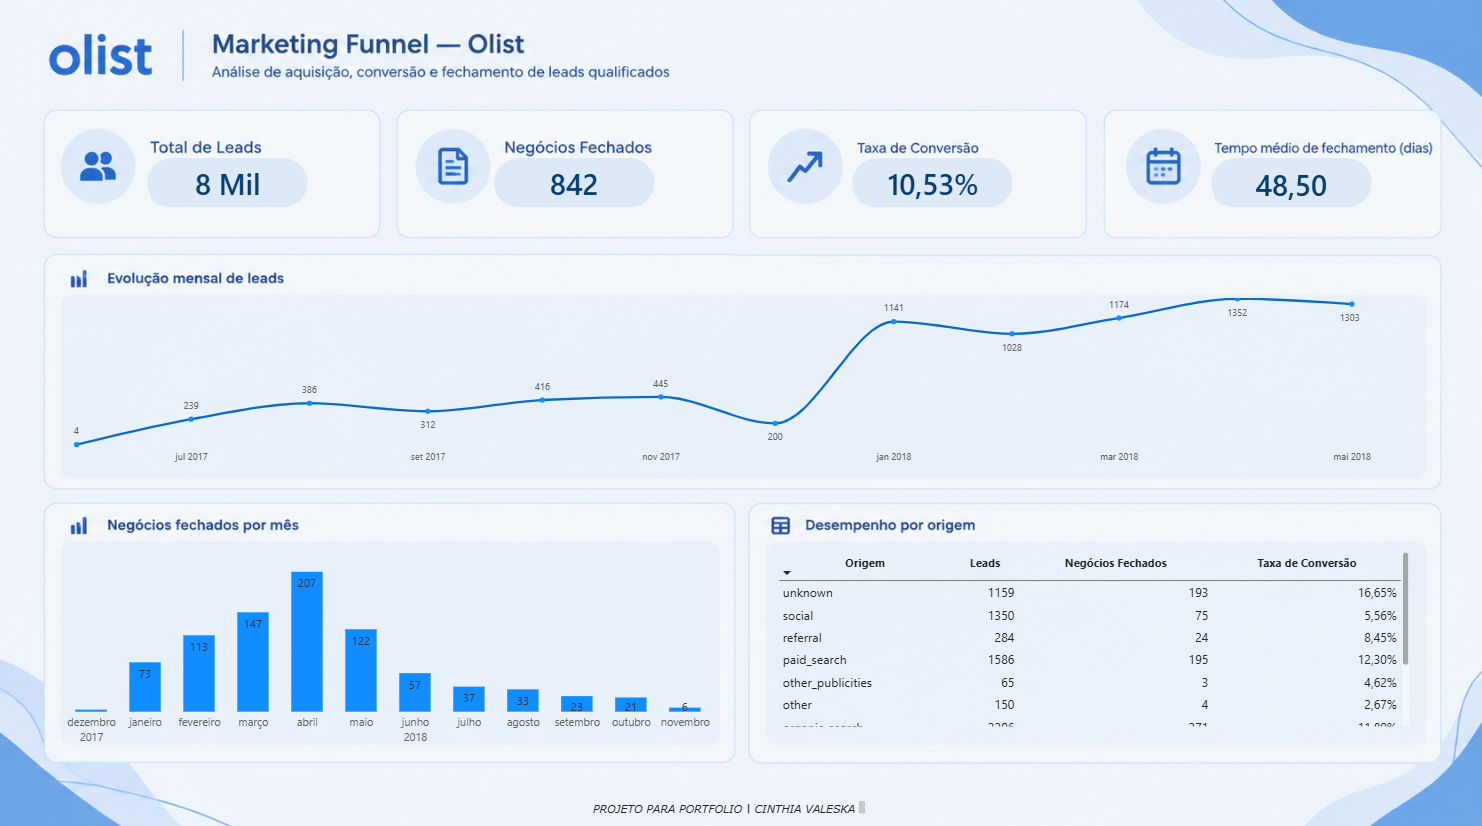

The dashboard page shown, as its layout file describes it:
{"tool":"powerbi","page":{"name":"Página 1","canvas":[1920,1080],"ordinal":0},"visuals":[{"type":"lineChart","title":"Leads por Ano e Mês","fields":{"Category":["public qualified_leads.first_contact_date.Variation.Hierarquia de datas.Ano","public qualified_leads.first_contact_date.Variation.Hierarquia de datas.Mês"],"Y":["public qualified_leads.Total de Leads"]},"box":[64,368,1728,256],"z":3},{"type":"columnChart","title":"Negócios Fechados por Ano e Mês","fields":{"Category":["public closed_deals.won_date.Variation.Hierarquia de datas.Ano","public closed_deals.won_date.Variation.Hierarquia de datas.Mês"],"Y":["public closed_deals.Total de Negócios Fechados"]},"box":[48,720,912,272],"z":4},{"type":"shape","box":[640,208,208,64],"z":14},{"type":"shape","box":[192,208,208,64],"z":15},{"type":"shape","box":[1104,208,208,64],"z":16},{"type":"shape","box":[1568,208,208,64],"z":17},{"type":"cardVisual","fields":{"Data":["public qualified_leads.Taxa de Conversão"]},"box":[1072,160,272,160],"z":18},{"type":"cardVisual","fields":{"Data":["public qualified_leads.Tempo Médio de Fechamento (Dias)"]},"box":[1536,160,272,160],"z":19},{"type":"cardVisual","fields":{"Data":["public closed_deals.Total de Negócios Fechados"]},"box":[608,160,272,160],"z":20},{"type":"cardVisual","fields":{"Data":["public qualified_leads.Total de Leads"]},"box":[176,160,240,160],"z":21},{"type":"tableEx","fields":{"Values":["public qualified_leads.origin","public qualified_leads.Total de Leads","public closed_deals.Total de Negócios Fechados","public qualified_leads.Taxa de Conversão"]},"box":[992,704,848,256],"z":23},{"type":"textbox","box":[768,1040,352,16],"z":24}]}

Visuals, with their boxes in screenshot pixels (x1, y1, x2, y2), scaled from the page's 1920x1080 canvas onto the 1482x826 screenshot:
"Leads por Ano e Mês" lineChart: rect(49, 281, 1383, 477)
"Negócios Fechados por Ano e Mês" columnChart: rect(37, 551, 741, 759)
shape: rect(494, 159, 655, 208)
shape: rect(148, 159, 309, 208)
shape: rect(852, 159, 1013, 208)
shape: rect(1210, 159, 1371, 208)
cardVisual - public qualified_leads.Taxa de Conversão: rect(827, 122, 1037, 245)
cardVisual - public qualified_leads.Tempo Médio de Fechamento (Dias): rect(1186, 122, 1396, 245)
cardVisual - public closed_deals.Total de Negócios Fechados: rect(469, 122, 679, 245)
cardVisual - public qualified_leads.Total de Leads: rect(136, 122, 321, 245)
tableEx - public qualified_leads.origin x public qualified_leads.Total de Leads: rect(766, 538, 1420, 734)
textbox: rect(593, 795, 864, 808)
